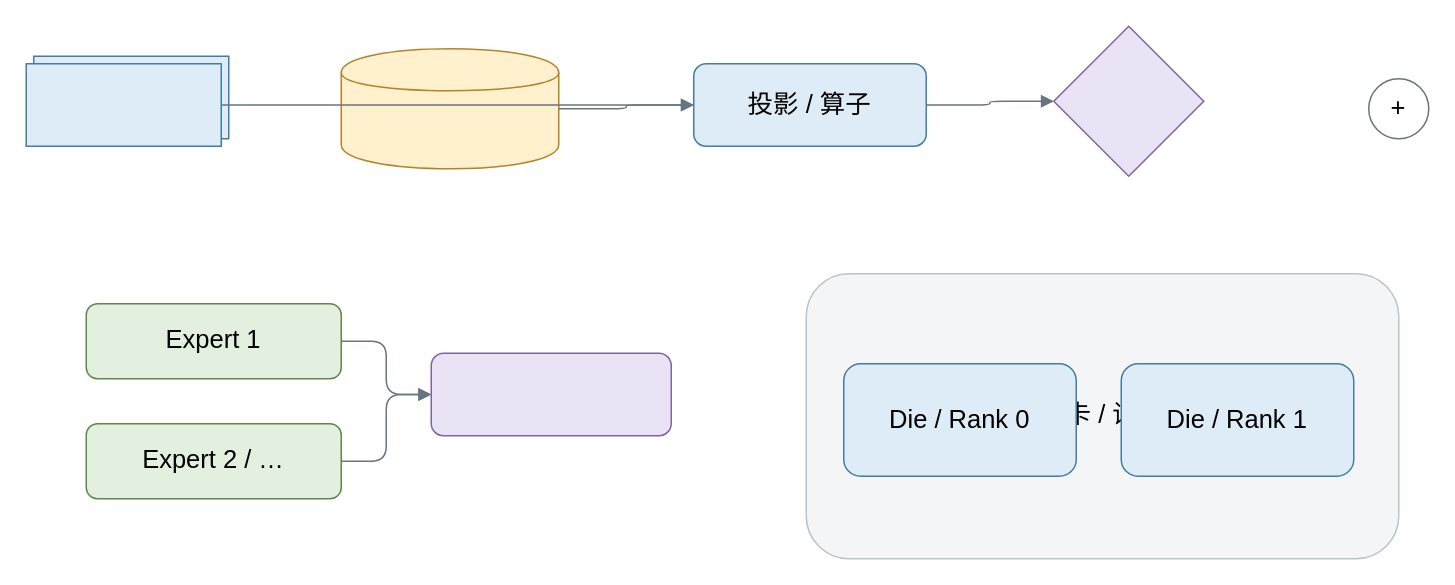
The diagram is 1455 pixels wide and 585 high, and some of its shapes have lost their labels. The centre of each missing label's shape, as x and y in pixels:
"条件" belongs at pixel 1128 100.
"特征张量 H" belongs at pixel 123 104.
"路由与加权合并" belongs at pixel 550 394.
"递归状态 S" belongs at pixel 449 108.
